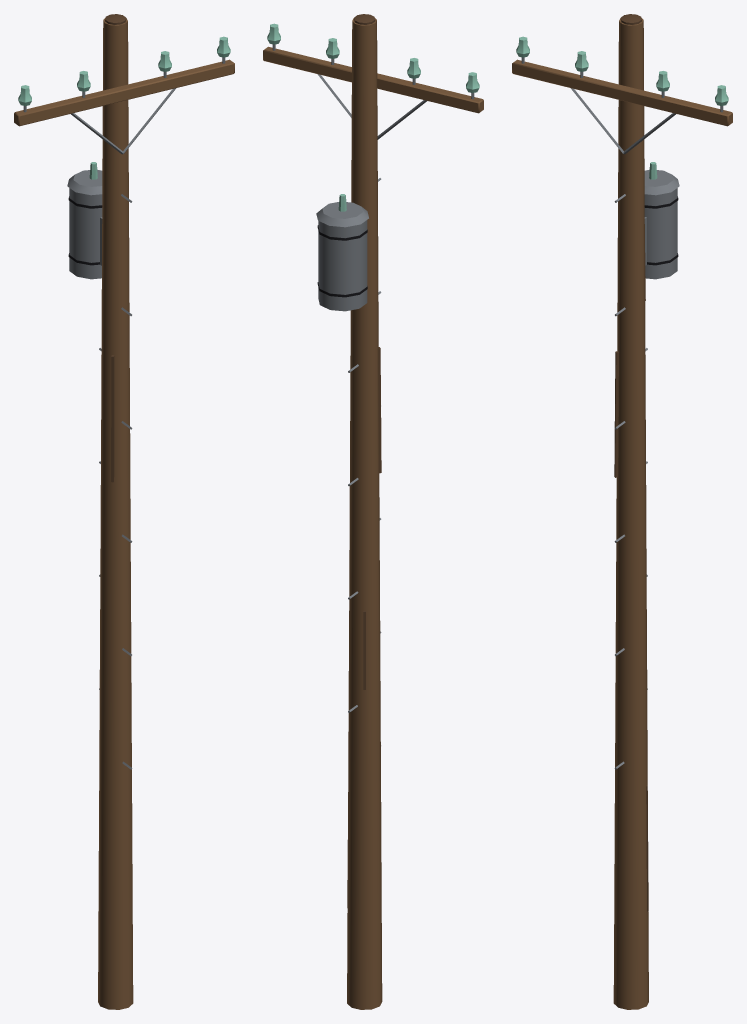
File: utility_pole.glb
3 renders of one model, left to right at view 1: azimuth 30°, elevation 25°; view 2: azimuth 150°, elevation 25°; view 3: azimuth 330°, elevation 25°, orthographic.
Visible parts, largest first — view 1: pole; view 2: pole; view 3: pole.
Boxes of the visible parts, x1,y1,x2,y2 form: pole: [14, 14, 234, 1009]; pole: [263, 14, 483, 1009]; pole: [512, 14, 732, 1009].
Size of the model in its own units: 2.4 by 10.44 by 0.9801.
